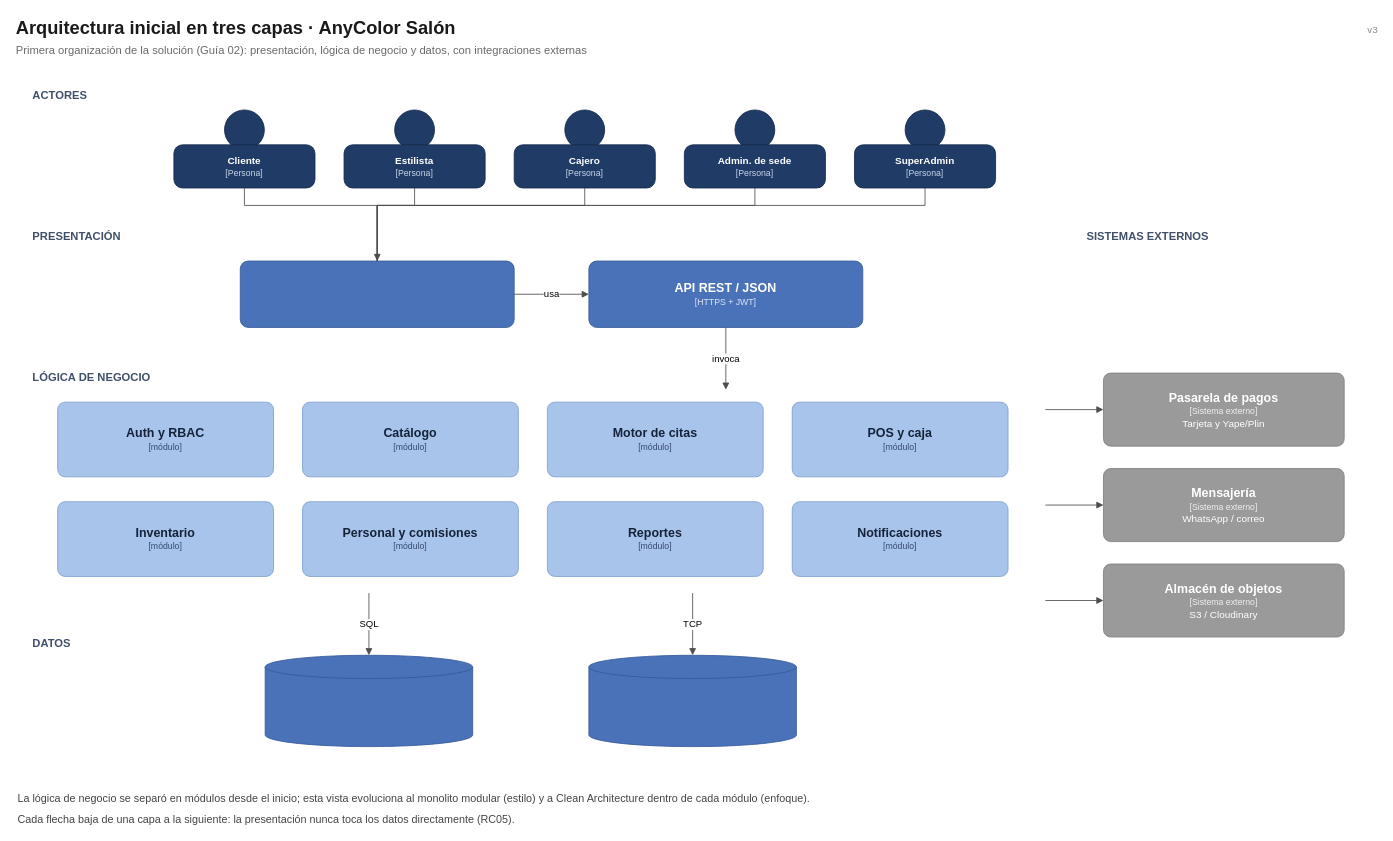
The diagram is 1393 pixels wide and 841 high, and some of its shapes have lost their labels. Here are the shapes that lost their labels. From the top down, the centre of each, then its label:
At pixel 376 293: "Aplicación web responsive [Next.js / React]".
At pixel 368 700: "PostgreSQL [transaccional ACID]".
At pixel 692 700: "Redis [bloqueos 5 min y caché]".
